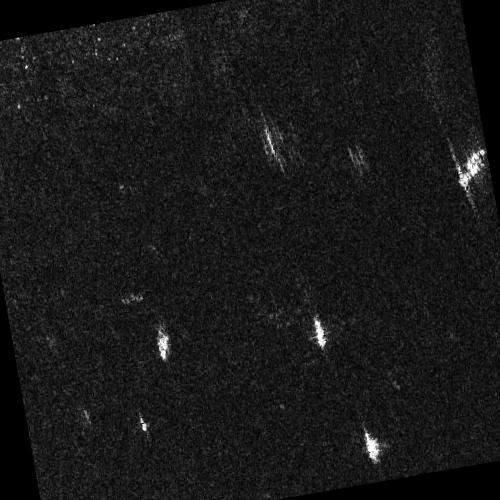ship: (456, 147, 485, 187), (362, 425, 380, 464), (157, 323, 170, 363), (312, 316, 327, 350), (138, 410, 148, 433)
